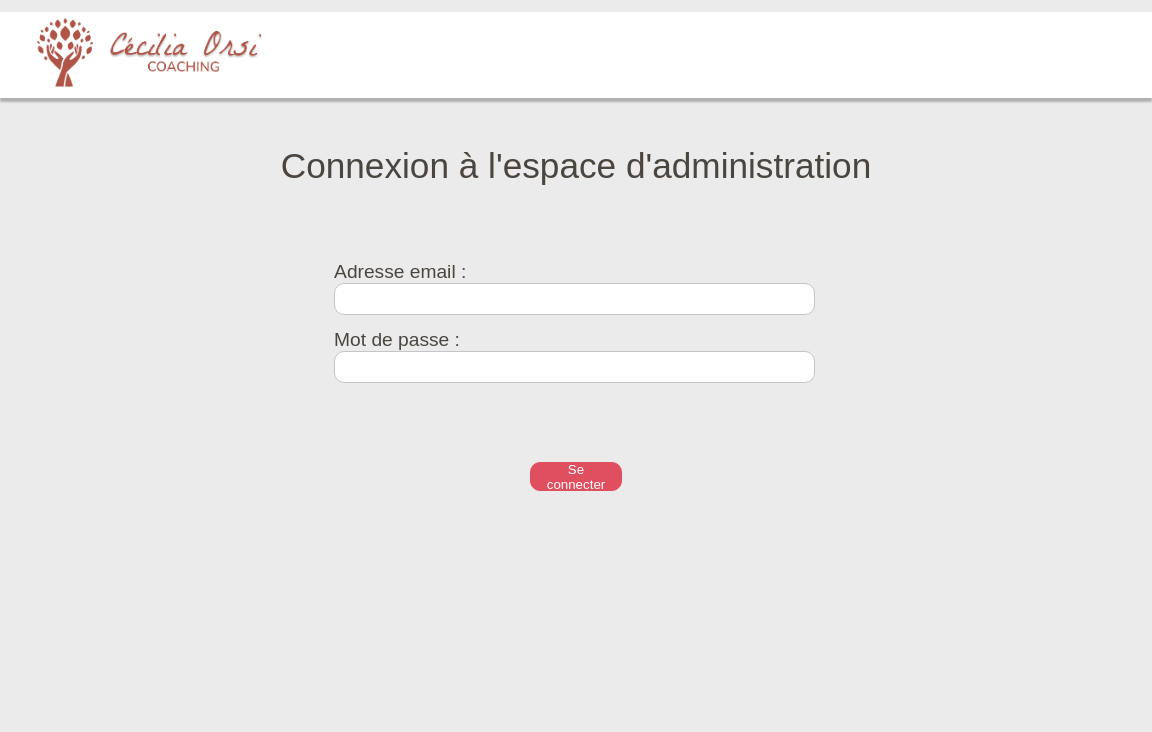
Test: logIn › all-inputs-empty
The width and height of the screenshot is (1152, 732).
What coordinates should you click on to do the following:
click the button with id "log_in"
I would click on:
 (576, 477)
Its box is [530, 462, 622, 491].
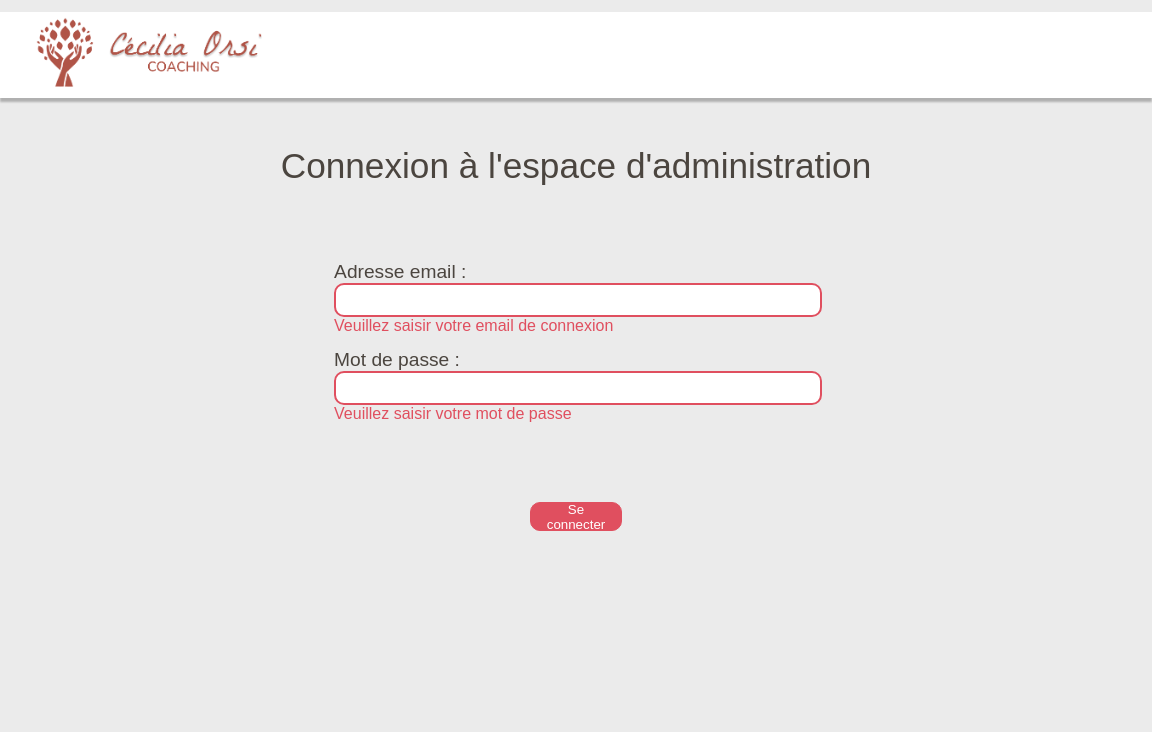
Expected: the text with id "email_empty_msg" reads "Veuillez saisir votre email de connexion", [334, 317, 613, 334]
Expected: the text "Veuillez saisir votre mot de passe" is shown, [334, 405, 572, 422]
